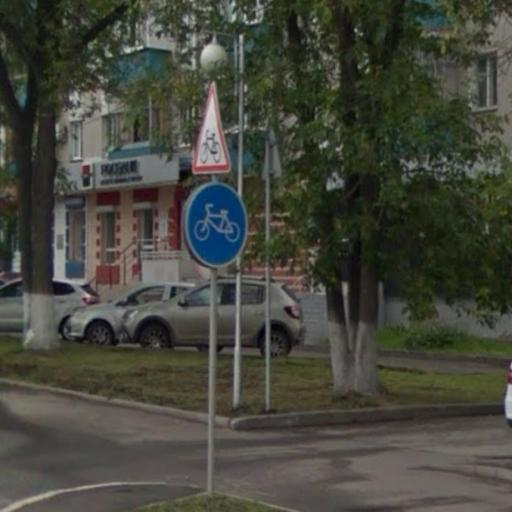traffic_sign: (184, 181, 251, 271), (189, 80, 235, 178)
